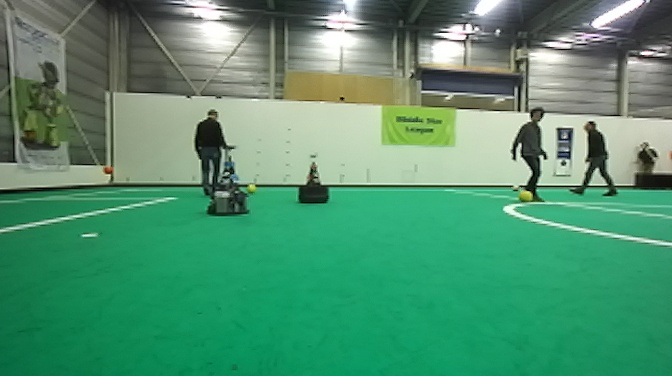ball: (555, 189, 571, 205), (244, 181, 259, 195), (509, 181, 521, 194), (102, 163, 114, 176)
human: (504, 107, 568, 202), (194, 107, 235, 199), (572, 119, 617, 197)
robot: (205, 143, 252, 217), (297, 154, 329, 205)
